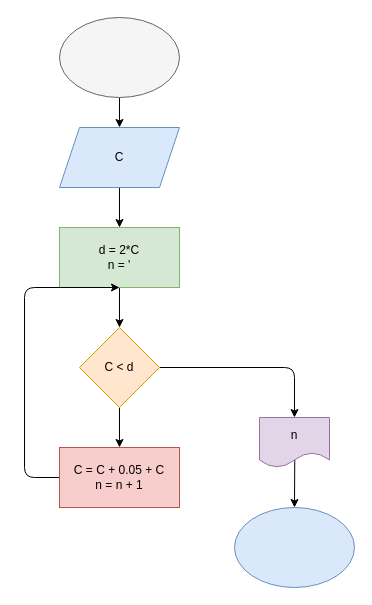
Some shapes in this 372 by 605 pixel diagram are drawn without their labels. Here are the shapes that lost their labels. From the top down, the centre of each, then its label:
At point (119, 57): "INICIO".
At point (294, 547): "FIN".
